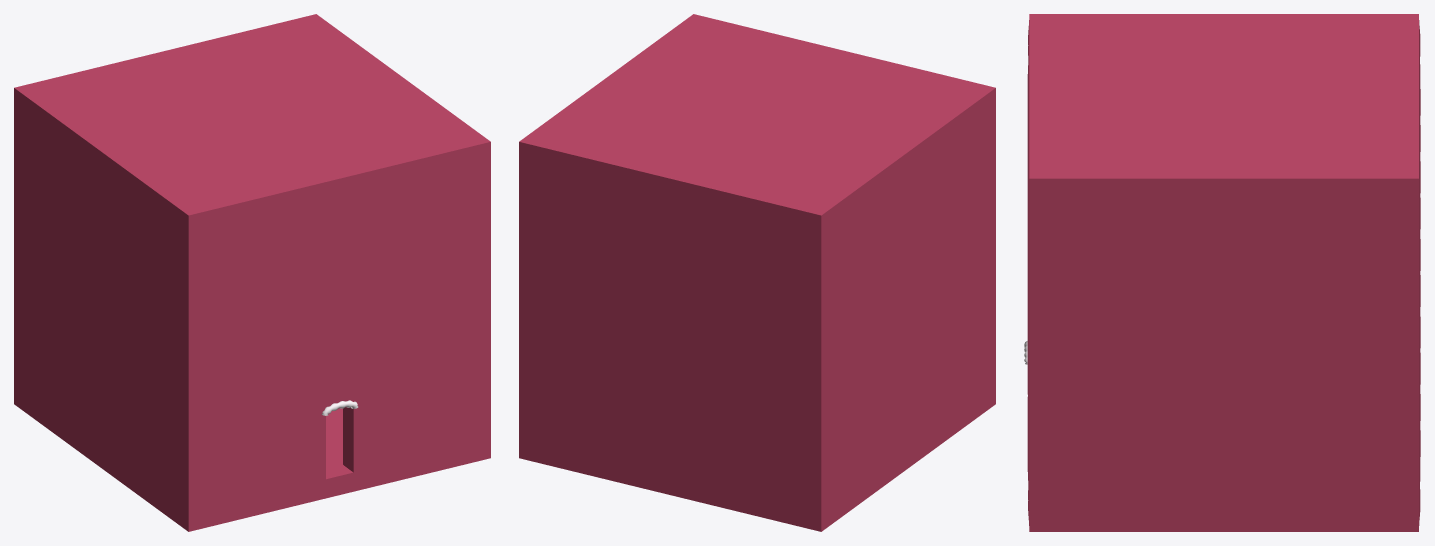
The model's file is castle_hull_33m.glb.
3 views of the same model, side by side, from view 1: azimuth 30°, elevation 25°; view 2: azimuth 150°, elevation 25°; view 3: azimuth 270°, elevation 25° (orthographic). The views are drawn at different scales.
Visible parts, largest first — view 1: CastleHull33m; view 2: CastleHull33m; view 3: CastleHull33m.
Boxes of the visible parts, left/top/right/bottom form: CastleHull33m: left=14, top=14, right=490, bottom=531; CastleHull33m: left=519, top=14, right=995, bottom=531; CastleHull33m: left=1027, top=14, right=1420, bottom=531.
Bounding box in the file's own units: 33.29 × 33.28 × 33.57.
